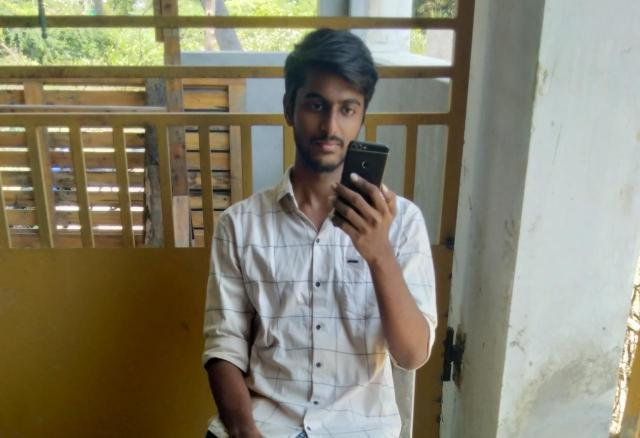PhoneUse: (342, 140, 388, 236)
SafeDriving: (302, 95, 328, 116), (336, 98, 359, 118)
